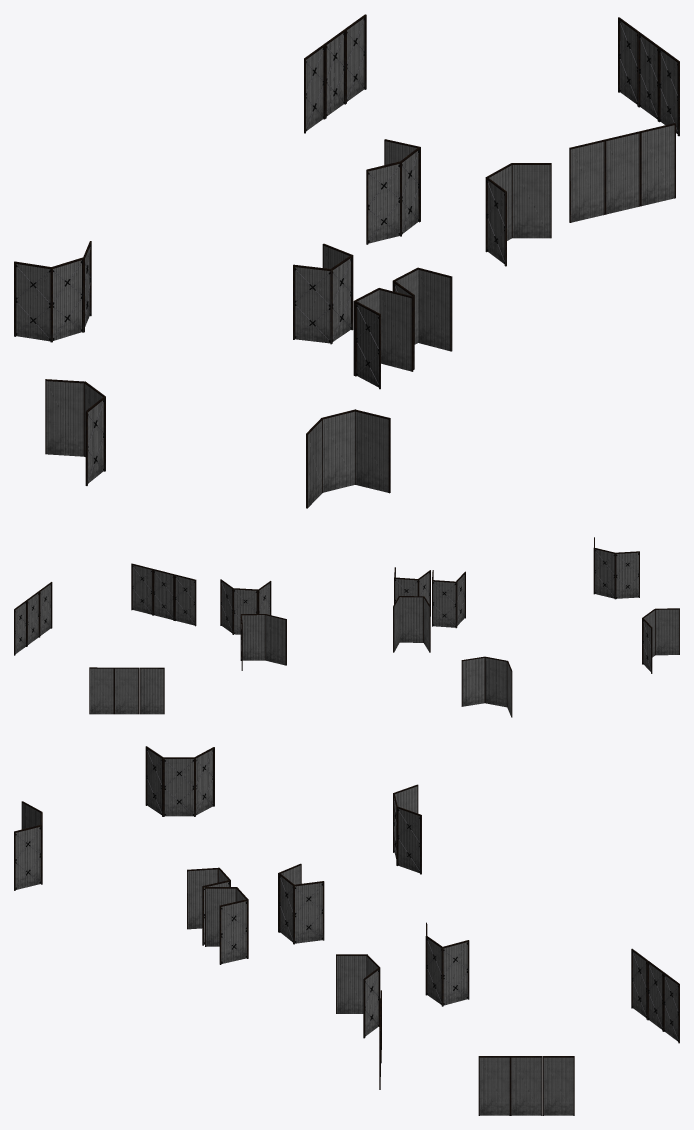
File: Map_8.fbx
3 renders of one model, top to bottom at view 1: azimuth 30°, elevation 25°; view 2: azimuth 150°, elevation 25°; view 3: azimuth 270°, elevation 25°, orthographic. The views are drawn at different scales.
Parts seen in each view (by area): view 1: Map_08; view 2: Map_08; view 3: Map_08.
Boxes of the visible parts, box(x1,y1,x2,y2) form: Map_08: box(14, 14, 679, 508); Map_08: box(14, 537, 679, 717); Map_08: box(14, 746, 679, 1115).
Size of the model in its own units: 99.51 by 8.89 by 90.05.
Materials: 1 (1 with a texture image).
